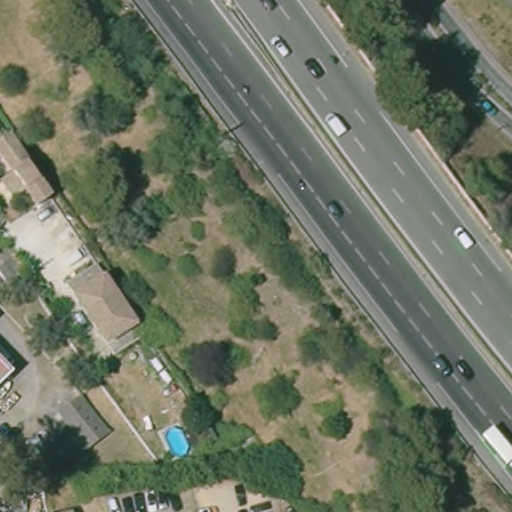pool: (161, 423, 194, 462)
